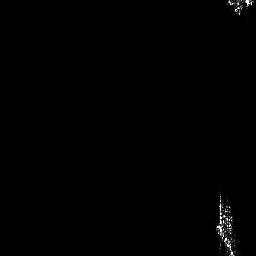ship: (216, 189, 239, 256)
